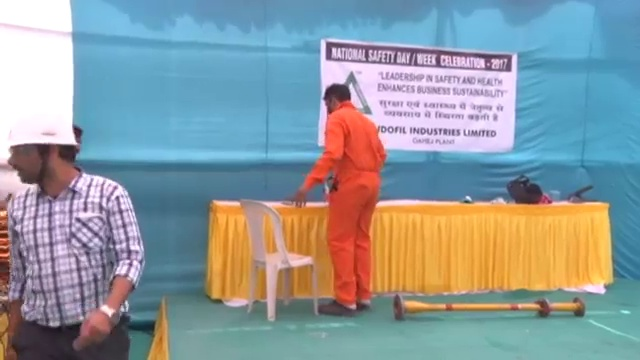helmet: (4, 108, 77, 150)
helmet_off: (322, 82, 351, 115)
helmet_on: (4, 106, 76, 189)
person: (2, 106, 146, 360), (285, 83, 395, 316)
